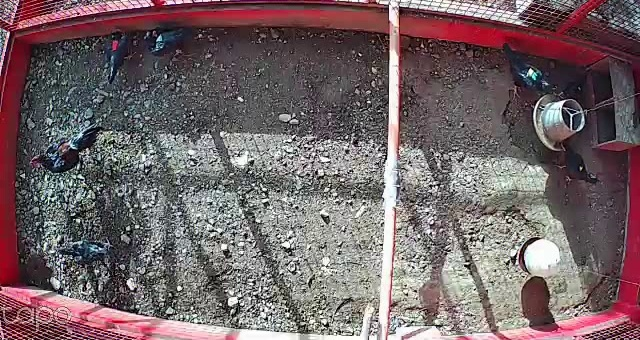Chicken: (497, 37, 561, 101), (51, 231, 119, 271), (139, 22, 192, 66), (553, 140, 599, 185), (105, 26, 137, 85)
Rooster: (28, 123, 108, 182)
Saddle_Color_Red: (113, 38, 120, 51)
Saddle_Color_YellowGreen: (525, 68, 538, 80)
